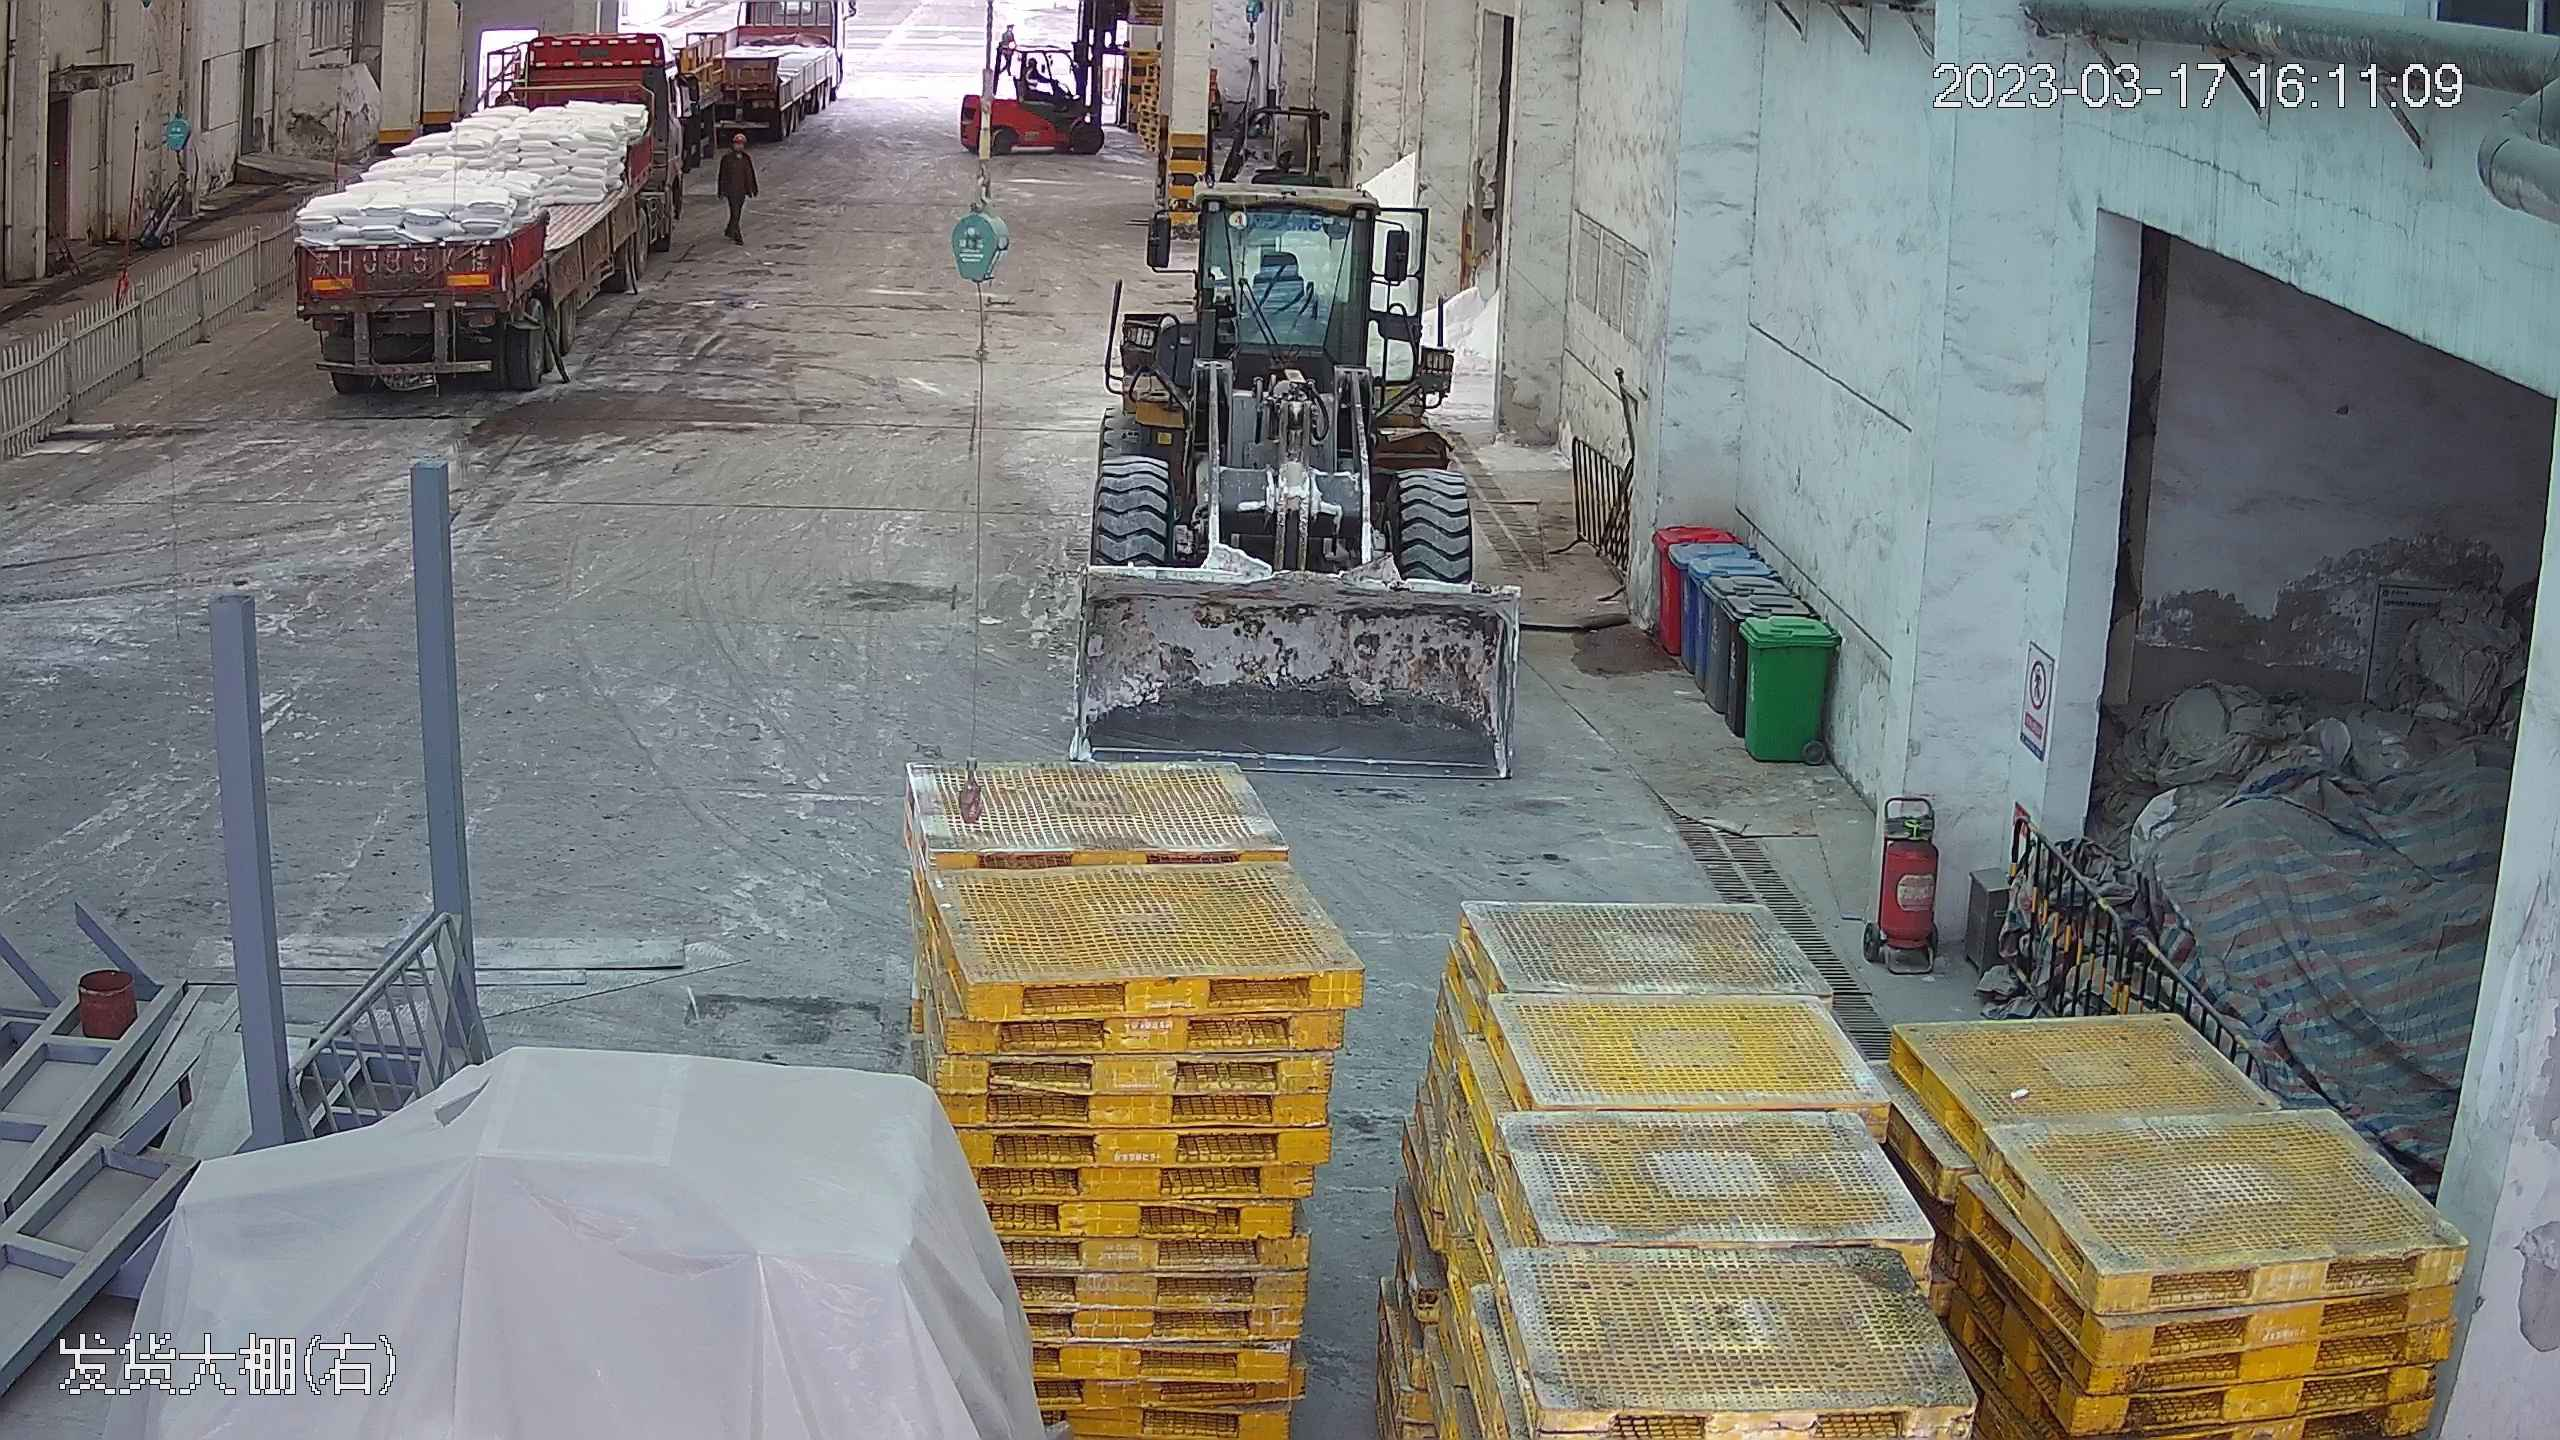head: (720, 131, 754, 165)
helmet: (731, 132, 745, 144)
people: (717, 120, 757, 241)
truck: (273, 11, 689, 403)
